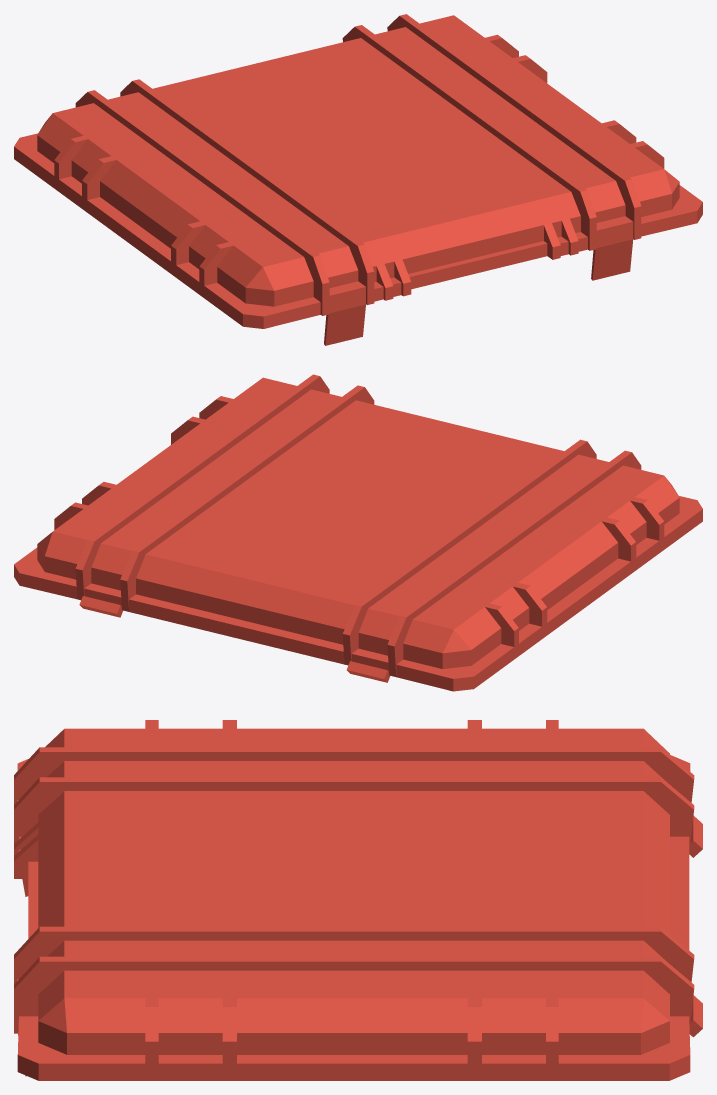
Rendered from SM_Box_Equipment_Sturdy_Small_Top.fbx.
3 renders of one model, top to bottom at view 1: azimuth 30°, elevation 25°; view 2: azimuth 150°, elevation 25°; view 3: azimuth 270°, elevation 25°, orthographic. The views are drawn at different scales.
Parts seen in each view (by area): view 1: SM_Box_Equipment_Sturdy_Small_Top; view 2: SM_Box_Equipment_Sturdy_Small_Top; view 3: SM_Box_Equipment_Sturdy_Small_Top.
Boxes of the visible parts, x1,y1,x2,y2 form: SM_Box_Equipment_Sturdy_Small_Top: [14, 14, 702, 345]; SM_Box_Equipment_Sturdy_Small_Top: [14, 374, 702, 691]; SM_Box_Equipment_Sturdy_Small_Top: [14, 720, 702, 1080].
Bounding box in the file's own units: 41.83 × 44.4 × 8.02.
